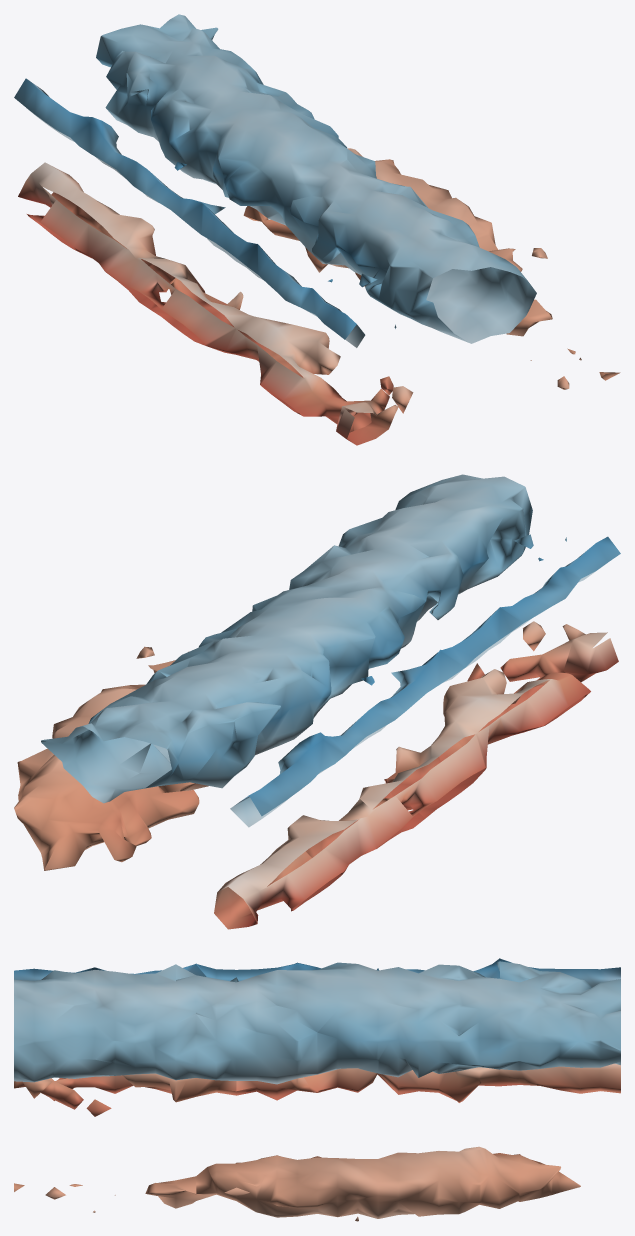
3 views of the same model, one above another, from view 1: azimuth 30°, elevation 25°; view 2: azimuth 150°, elevation 25°; view 3: azimuth 270°, elevation 25° (orthographic). The views are drawn at different scales.
Size of the model in its own units: 1.43 by 0.8221 by 2.5.
